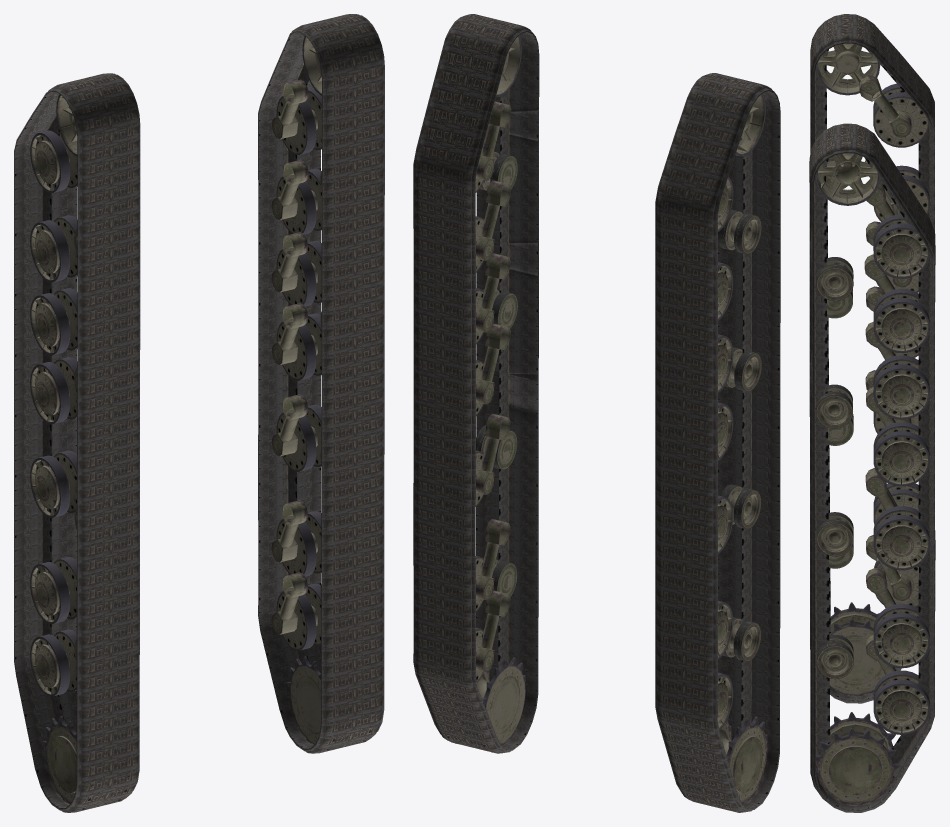
Rendered from Chassis.glb.
3 renders of one model, left to right at view 1: azimuth 30°, elevation 25°; view 2: azimuth 150°, elevation 25°; view 3: azimuth 270°, elevation 25°, orthographic. The views are drawn at different scales.
Parts seen in each view (by area): view 1: set_2_group_0, set_3_group_0, set_0_group_0, set_1_group_0; view 2: set_2_group_0, set_3_group_0, set_0_group_0, set_1_group_0; view 3: set_0_group_0, set_3_group_0, set_1_group_0, set_2_group_0.
Boxes of the visible parts, x1=… form: set_2_group_0: x1=14, y1=73, x2=140, y2=812; set_3_group_0: x1=258, y1=14, x2=384, y2=753; set_0_group_0: x1=271, y1=36, x2=373, y2=750; set_1_group_0: x1=30, y1=94, x2=129, y2=810; set_2_group_0: x1=655, y1=73, x2=780, y2=812; set_3_group_0: x1=413, y1=14, x2=539, y2=753; set_0_group_0: x1=447, y1=36, x2=525, y2=752; set_1_group_0: x1=690, y1=94, x2=767, y2=806; set_0_group_0: x1=815, y1=153, x2=929, y2=804; set_3_group_0: x1=809, y1=123, x2=935, y2=812; set_1_group_0: x1=816, y1=43, x2=929, y2=695; set_2_group_0: x1=810, y1=14, x2=934, y2=703.
Bounding box in the file's own units: 3.38 × 7.65 × 1.31.
4 materials, 4 textured.
